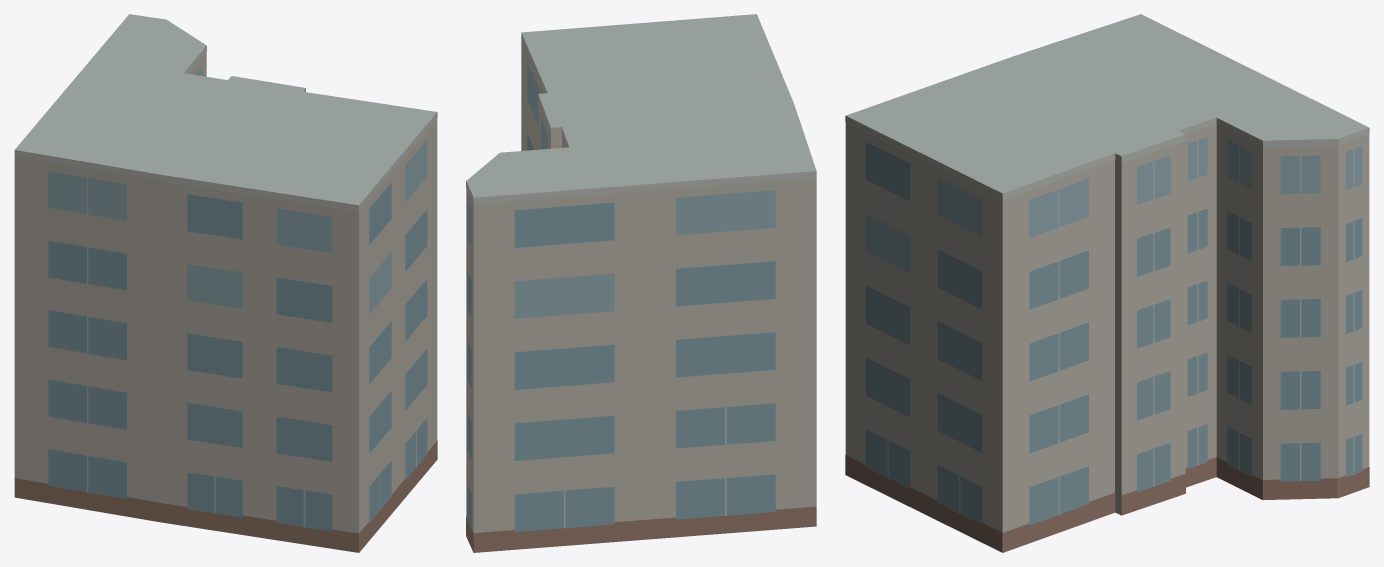
Rendered from survey-upis-32656650.glb.
3 views of the same model, side by side, from view 1: azimuth 30°, elevation 25°; view 2: azimuth 150°, elevation 25°; view 3: azimuth 270°, elevation 25° (orthographic). The views are drawn at different scales.
Parts seen in each view (by area): view 1: survey-upis-32656650.tmp; view 2: survey-upis-32656650.tmp; view 3: survey-upis-32656650.tmp.
Boxes of the visible parts, x1=… form: survey-upis-32656650.tmp: x1=14, y1=14, x2=437, y2=552; survey-upis-32656650.tmp: x1=466, y1=14, x2=816, y2=552; survey-upis-32656650.tmp: x1=845, y1=14, x2=1369, y2=552.
Size of the model in its own units: 14.05 by 13.1 by 17.32.
